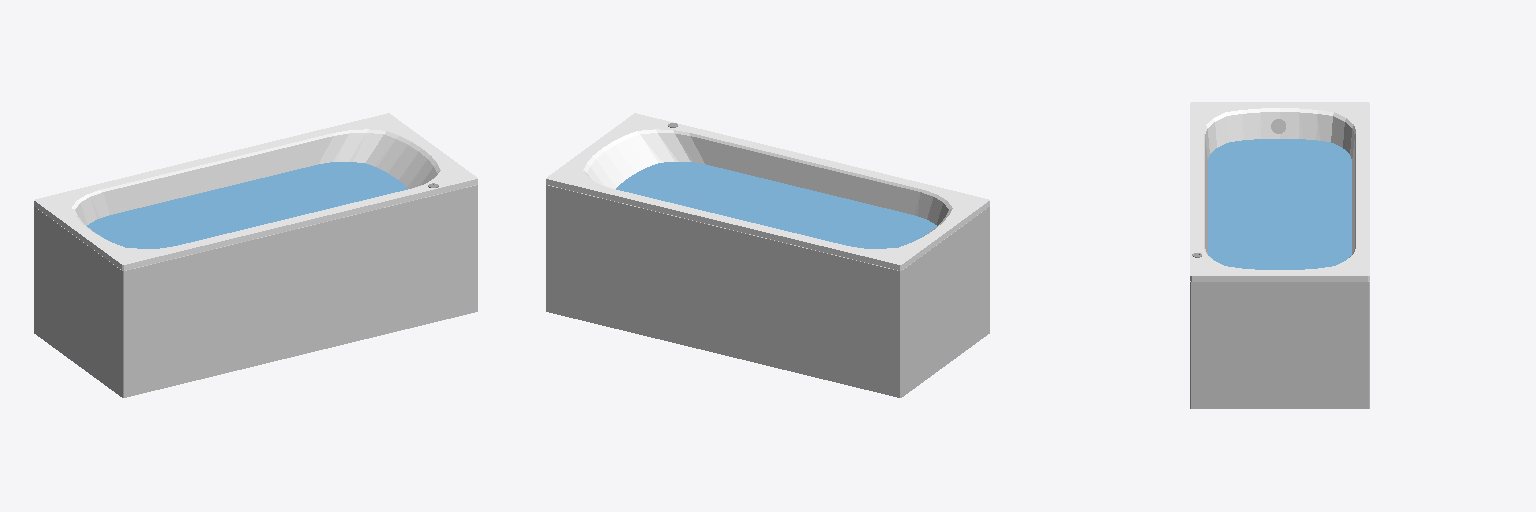
3 renders of one model, left to right at view 1: azimuth 30°, elevation 25°; view 2: azimuth 150°, elevation 25°; view 3: azimuth 270°, elevation 25°, orthographic.
Visible parts, largest first — view 1: 8_8, 7_7, 1_1, 6_6; view 2: 8_8, 7_7, 1_1, 6_6; view 3: 8_8, 7_7, 6_6, 1_1.
Boxes of the visible parts, x1,y1,x2,y2 form: 8_8: [34, 185, 477, 397]; 7_7: [87, 162, 407, 248]; 1_1: [71, 129, 440, 237]; 6_6: [34, 113, 477, 270]; 8_8: [546, 185, 989, 397]; 7_7: [616, 162, 936, 248]; 1_1: [583, 129, 952, 237]; 6_6: [546, 113, 989, 270]; 8_8: [1190, 281, 1369, 408]; 7_7: [1208, 139, 1351, 269]; 6_6: [1190, 102, 1369, 281]; 1_1: [1204, 108, 1355, 257].
Size of the model in its own units: 1 by 0.3625 by 0.4375.
Materials: 6 (1 with a texture image).